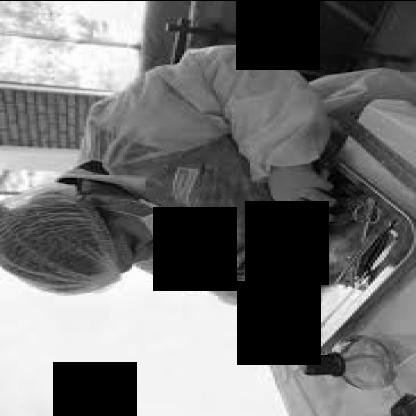fish: (232, 158, 334, 284)
